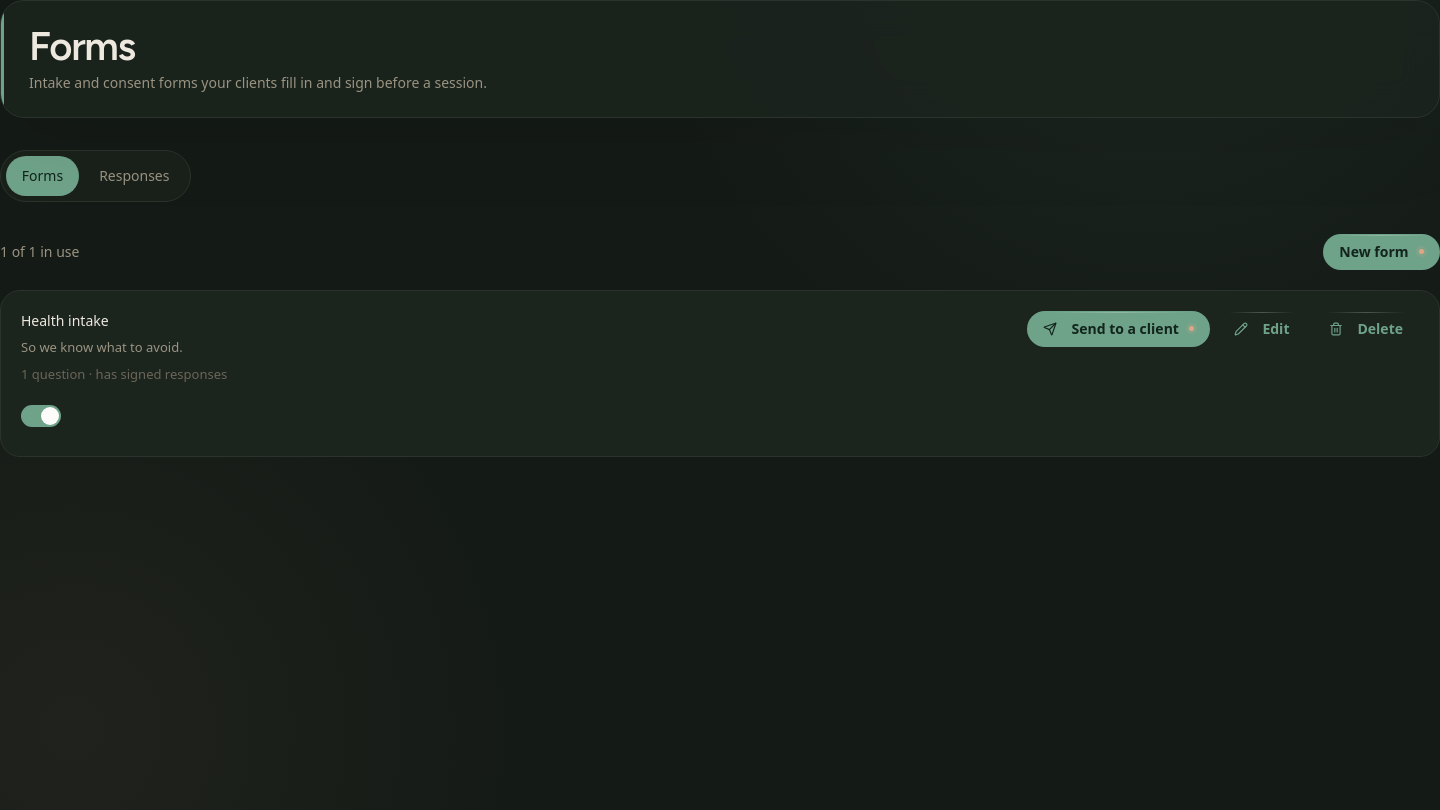
Scenario: FormsPage › the builder › holds back a blank question's error until save is tried
Expected: the heading "Health intake" is shown, x1=21 y1=311 x2=109 y2=331
Click the button "New form". click: click(1382, 252)
box: x1=1323 y1=234 x2=1439 y2=270
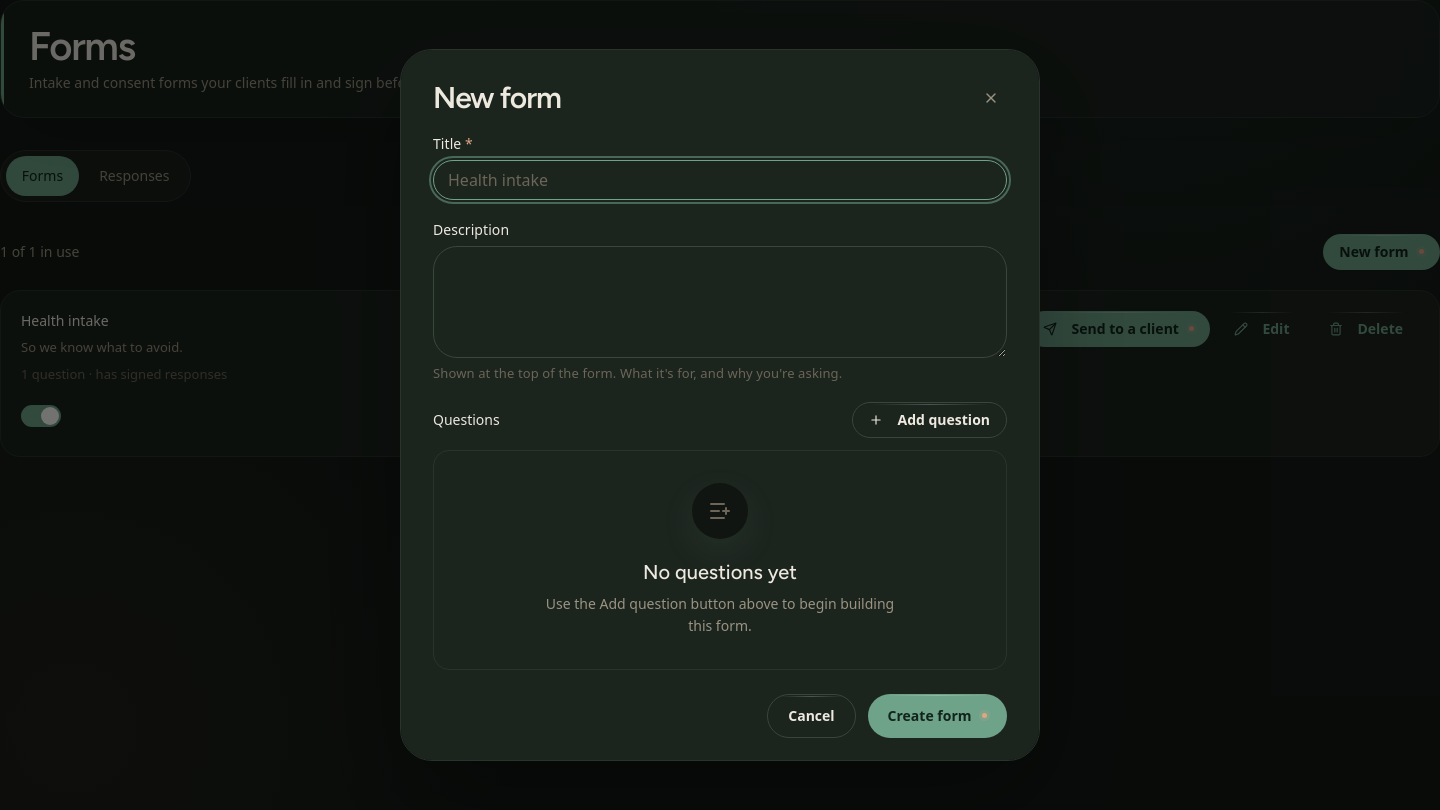
Click the button "Add question". click: click(930, 420)
box: x1=852 y1=402 x2=1007 y2=438
(page scrolled)
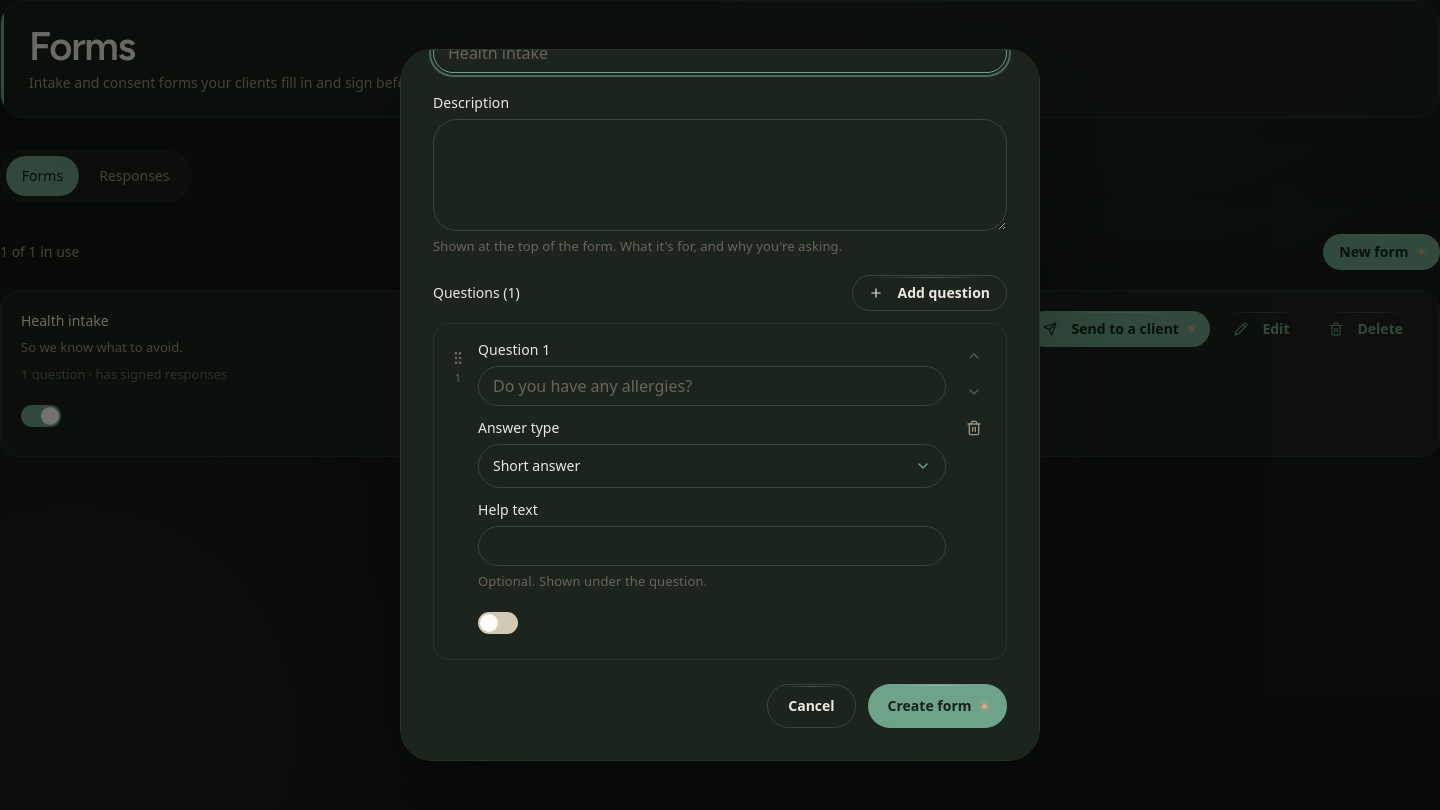
Expected: the text "every question needs a label" is not shown
Click the button "Create form". click: click(937, 706)
box: x1=868 y1=684 x2=1007 y2=728
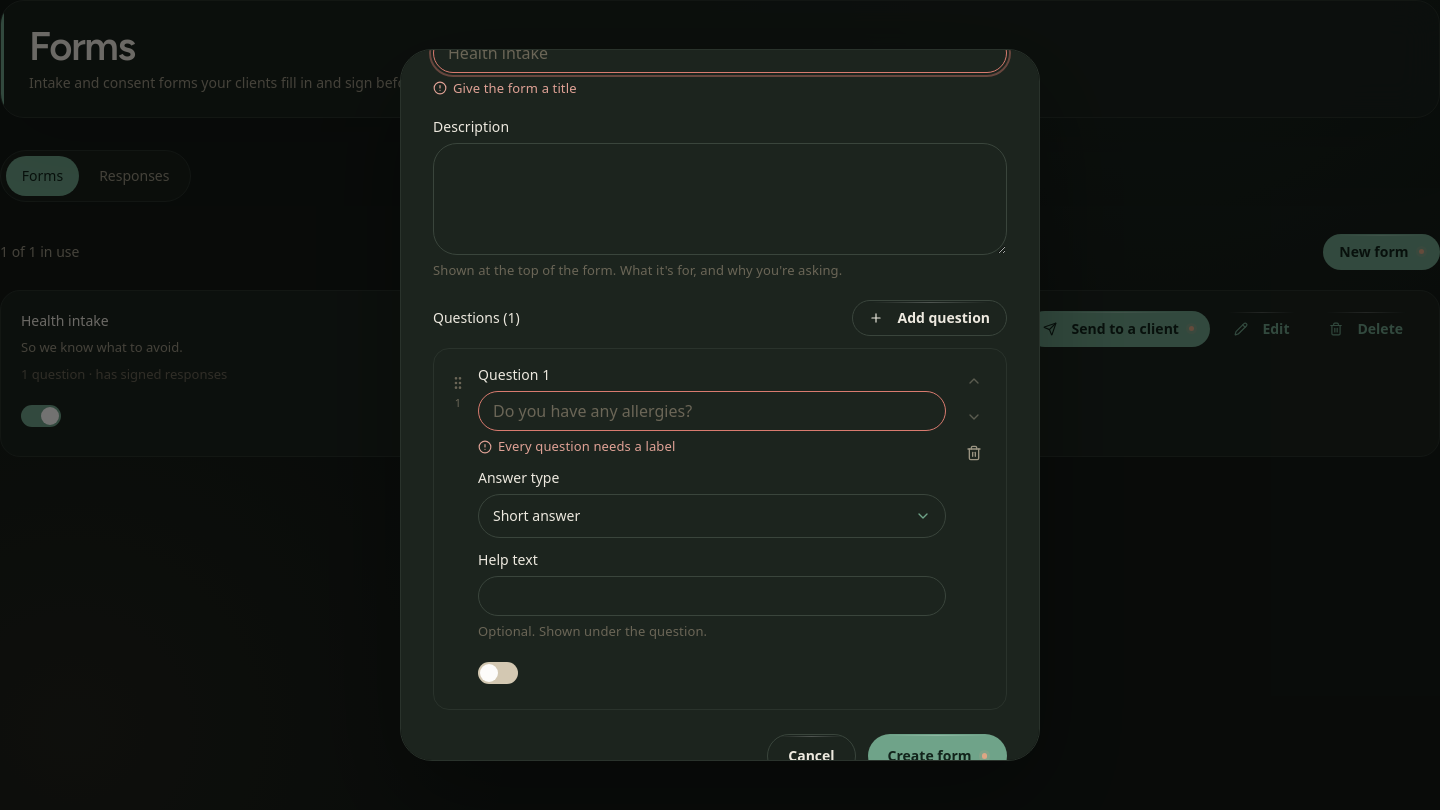
Expected: the text "Every question needs a label" is shown, x1=478 y1=437 x2=675 y2=455
